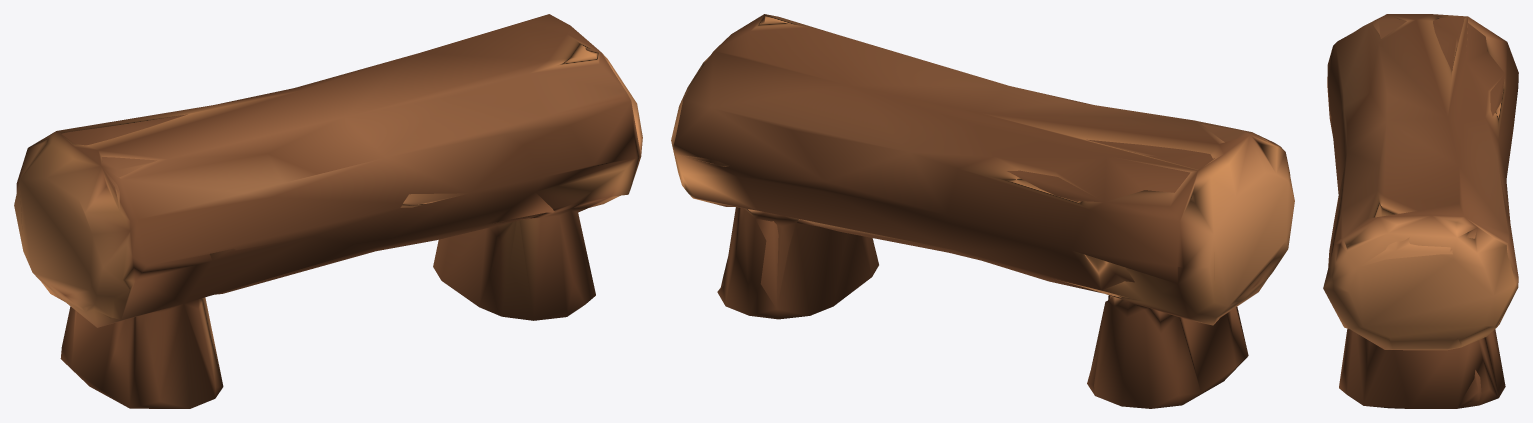
Rendered from gen3d-log-bench-lod1.glb.
The picture shows the model from 3 angles, left to right: view 1: azimuth 30°, elevation 25°; view 2: azimuth 150°, elevation 25°; view 3: azimuth 270°, elevation 25°; orthographic projection. The views are drawn at different scales.
Parts seen in each view (by area): view 1: part_0; view 2: part_0; view 3: part_0.
Boxes of the visible parts, x1,y1,x2,y2 form: part_0: (14,14,642,408); part_0: (671,14,1294,408); part_0: (1323,14,1518,408).
Size of the model in its own units: 2.4 by 0.9987 by 0.8969.
